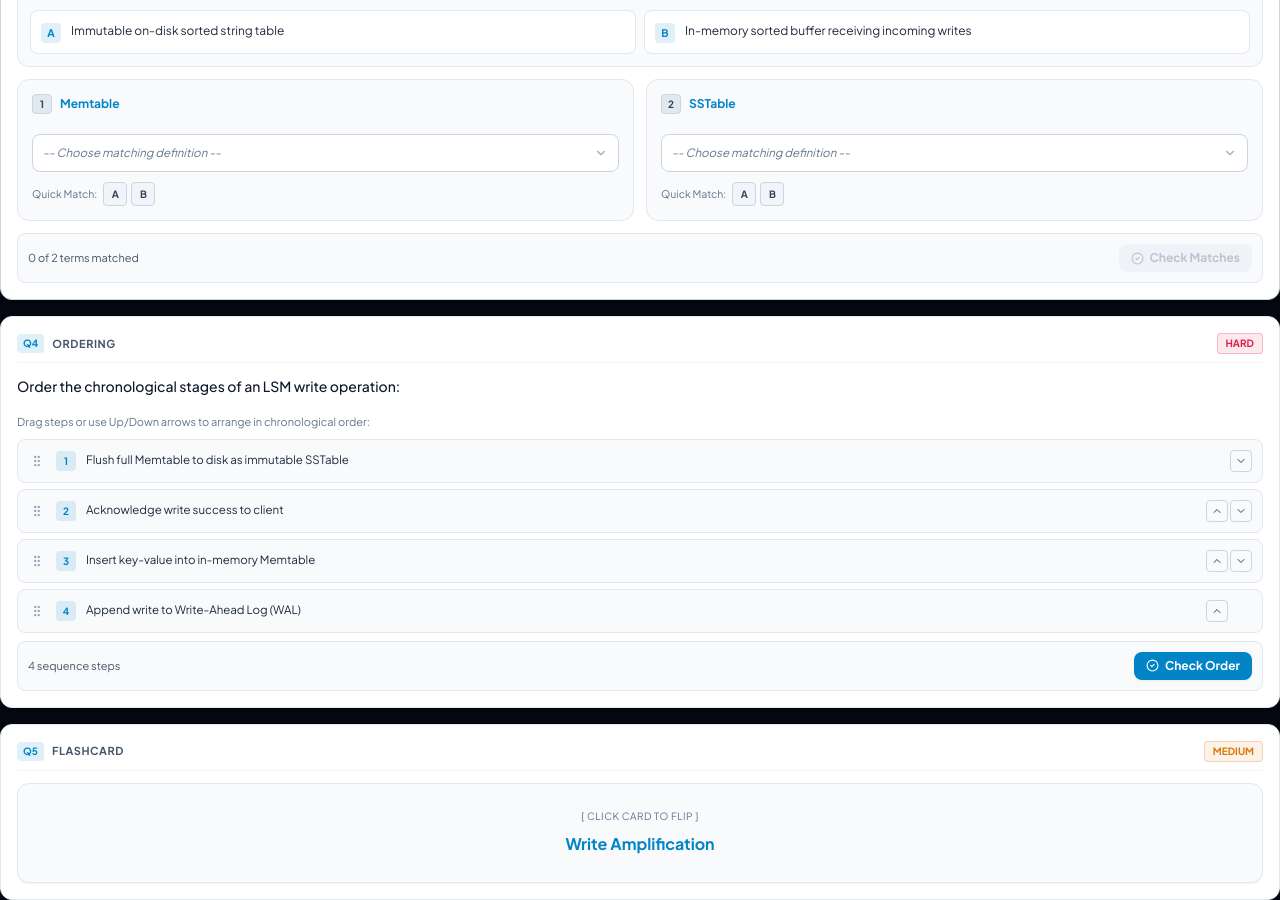
it: QuizViewer Component › renders FLASHCARD questions and flips card on click
The image size is (1280, 900).
Check: the heading "Write Amplification" is shown, box [565,832,715,856]
Check: the text "[ CLICK CARD TO FLIP ]" is shown, box [581,809,699,824]
// Click card to flip
Click the text "Write Amplification" at (640, 832), box [17,782,1263,882]
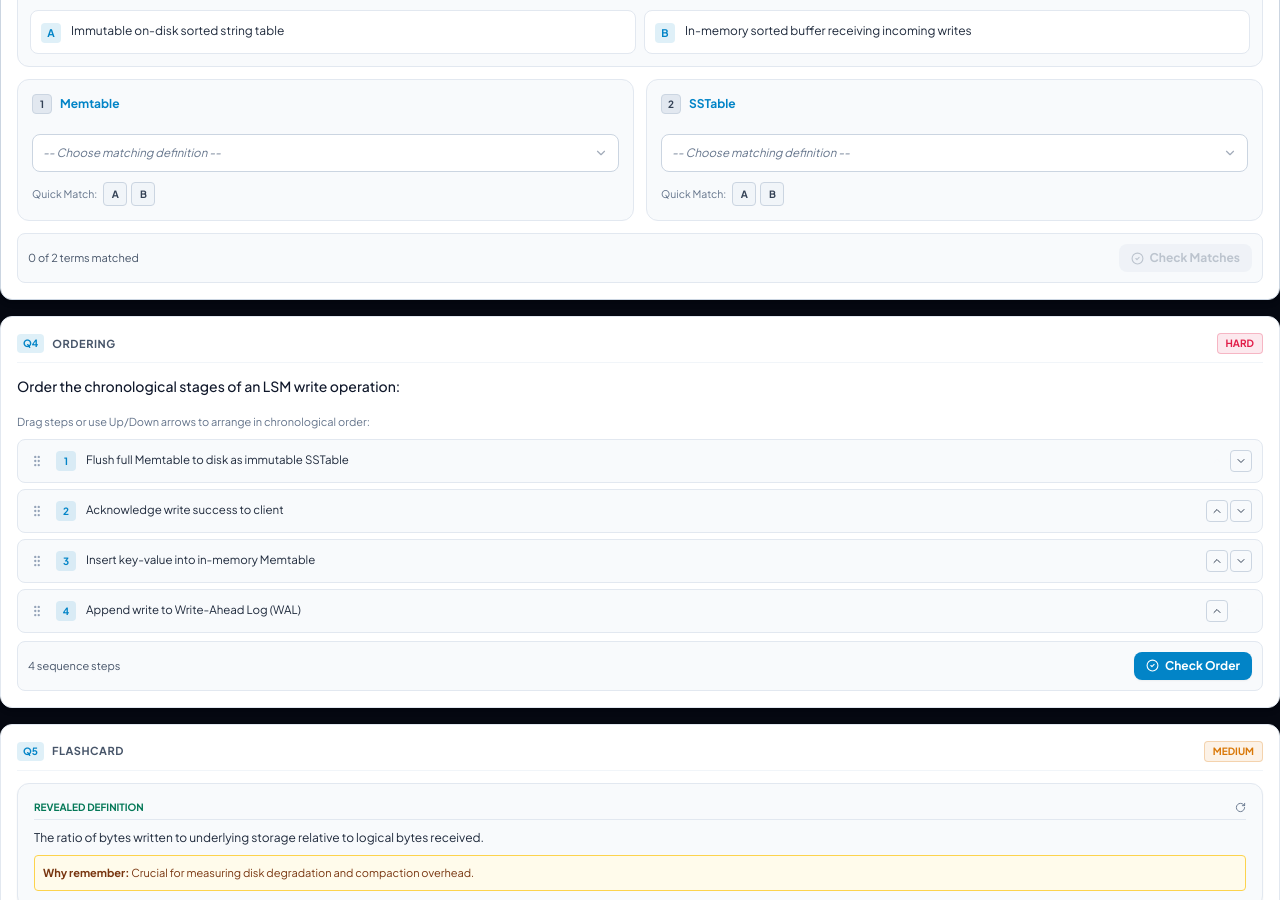
Check: the text "REVEALED DEFINITION" is shown, box [34,800,144,814]
Check: the text "The ratio of bytes written to underlying storage" is shown, box [34,830,484,844]
Check: the text "Crucial for measuring disk degradation" is shown, box [131,866,474,879]
